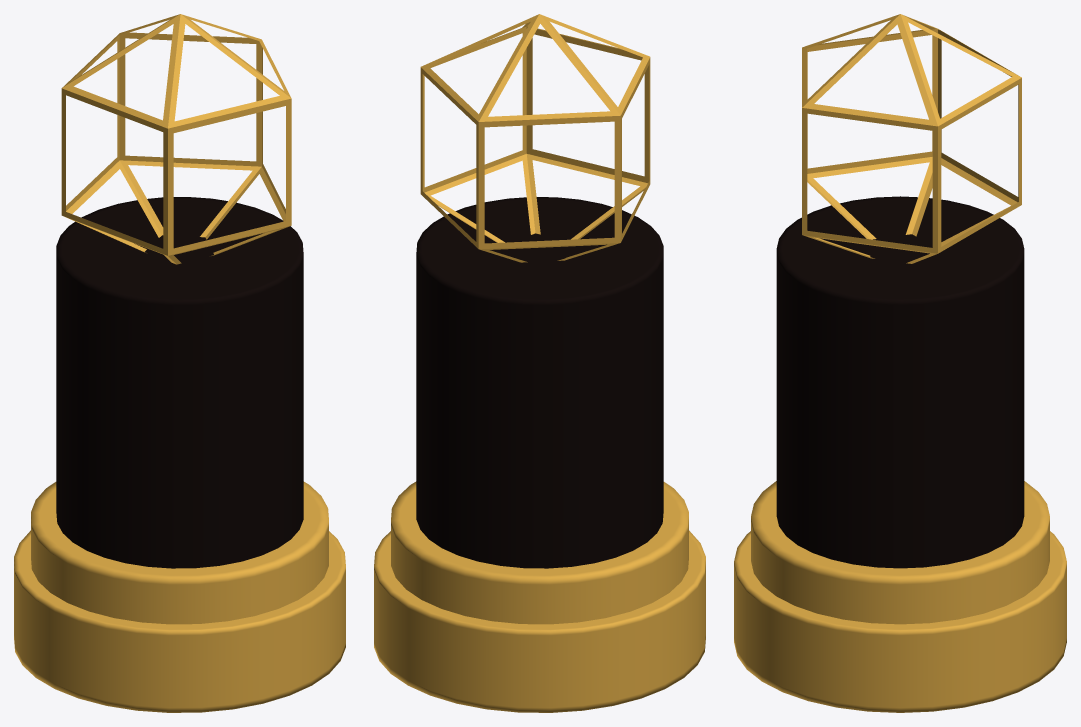
The model's file is target.fbx.
The picture shows the model from 3 angles, left to right: view 1: azimuth 30°, elevation 25°; view 2: azimuth 150°, elevation 25°; view 3: azimuth 270°, elevation 25°; orthographic projection.
Parts seen in each view (by area): view 1: base long, base 1, base 2, dock.001; view 2: base long, base 1, base 2, dock.001; view 3: base long, base 1, base 2, dock.001.
Boxes of the visible parts, left/top/right/bottom form: base long: left=56, top=197, right=303, bottom=568; base 1: left=14, top=530, right=345, bottom=712; base 2: left=31, top=481, right=328, bottom=624; dock.001: left=61, top=14, right=291, bottom=264; base long: left=416, top=197, right=663, bottom=568; base 1: left=374, top=530, right=705, bottom=712; base 2: left=391, top=481, right=688, bottom=624; dock.001: left=420, top=14, right=650, bottom=262; base long: left=776, top=196, right=1024, bottom=568; base 1: left=734, top=531, right=1066, bottom=712; base 2: left=751, top=481, right=1049, bottom=624; dock.001: left=802, top=14, right=1021, bottom=263.
Bounding box in the file's own units: 155 × 323 × 155.
